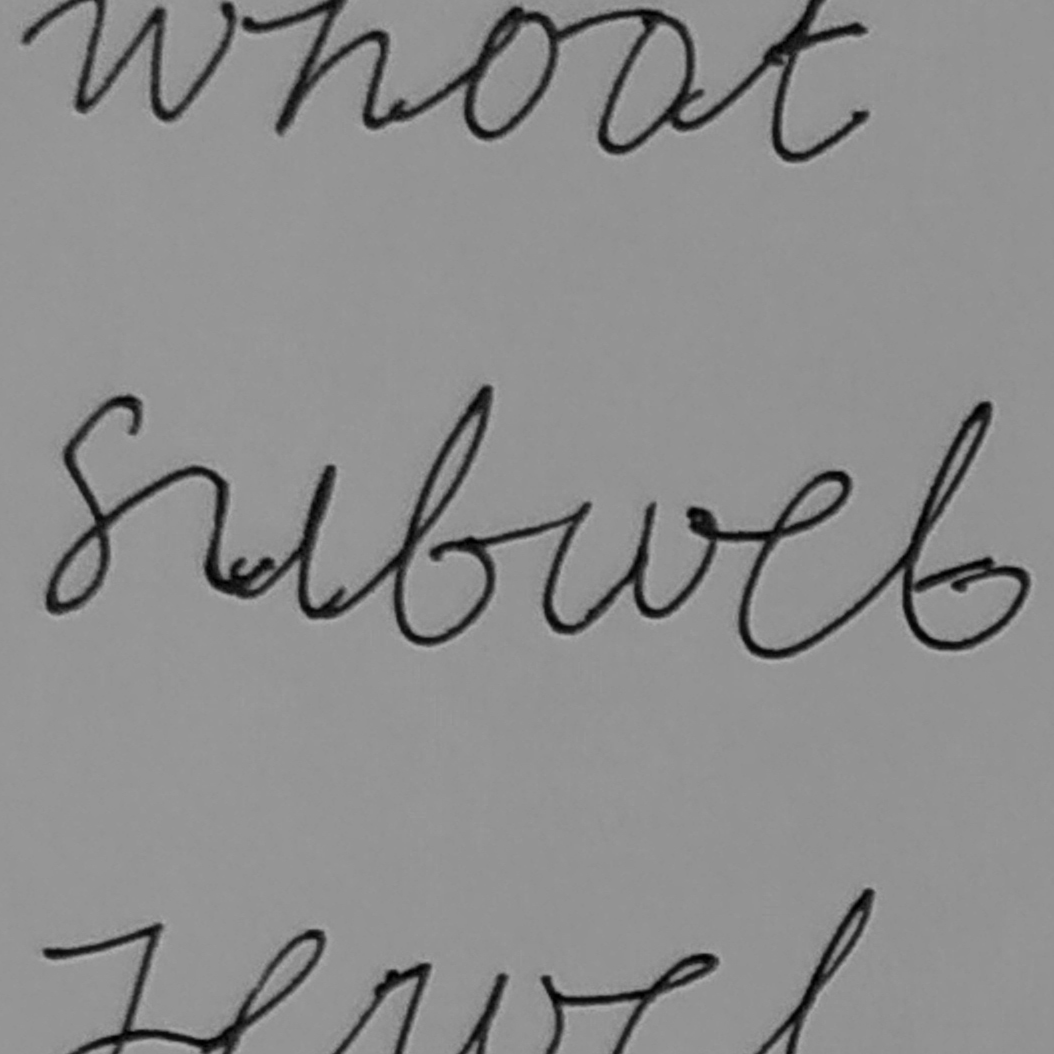b: (896, 395, 1035, 657), (382, 378, 507, 650)
e: (733, 463, 865, 666)
s: (34, 386, 151, 625)
u: (191, 452, 343, 628)
w: (533, 494, 721, 638)
